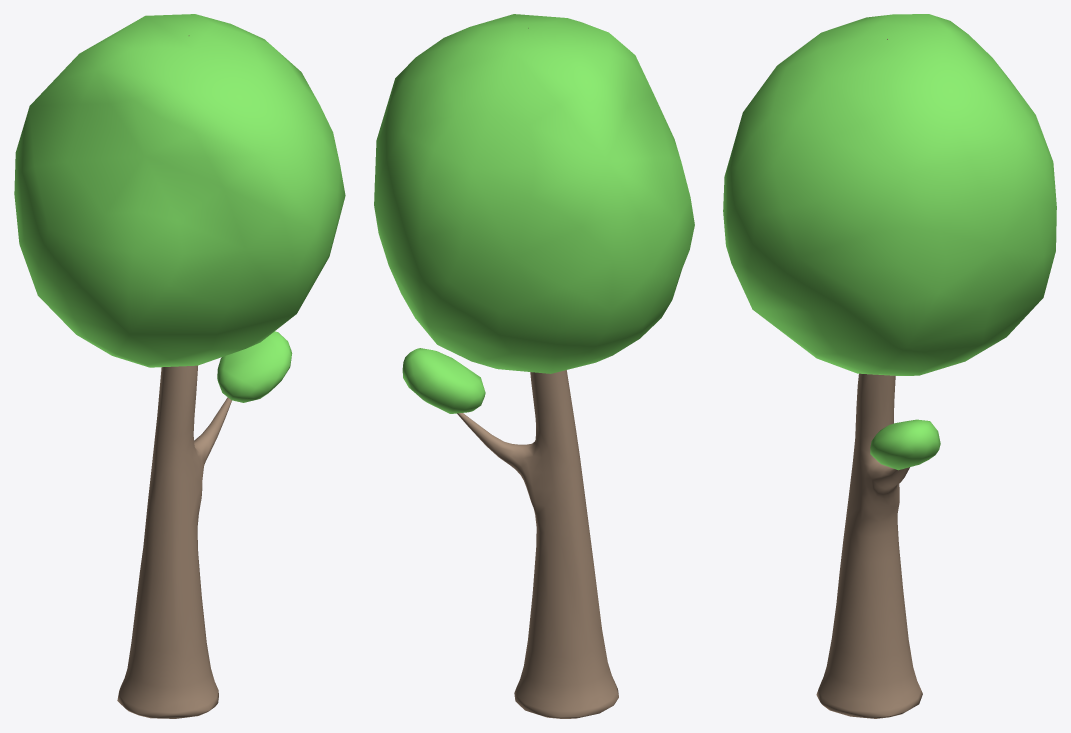
File: Tree2.fbx
The picture shows the model from 3 angles, left to right: view 1: azimuth 30°, elevation 25°; view 2: azimuth 150°, elevation 25°; view 3: azimuth 270°, elevation 25°; orthographic projection. The views are drawn at different scales.
Visible parts, largest first — view 1: Icosphere, Plane; view 2: Icosphere, Plane; view 3: Icosphere, Plane.
Part boxes in pixels (<box>): Icosphere: <box>14,14,345,402</box>; Plane: <box>117,35,231,718</box>; Icosphere: <box>374,14,694,413</box>; Plane: <box>457,28,618,718</box>; Icosphere: <box>723,14,1056,470</box>; Plane: <box>816,39,922,718</box>.
Size of the model in its own units: 167 by 383 by 171.
